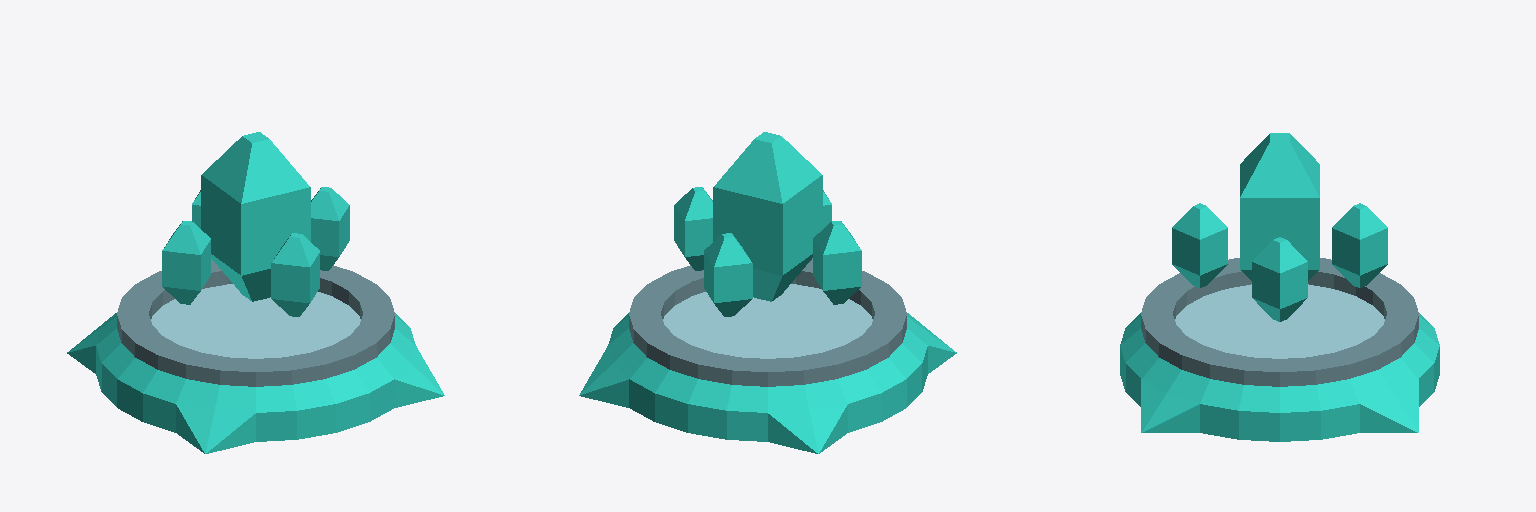
File: Freeze_Turret.obj
The picture shows the model from 3 angles: view 1: azimuth 30°, elevation 25°; view 2: azimuth 150°, elevation 25°; view 3: azimuth 270°, elevation 25°; orthographic projection.
Visible parts, largest first — view 1: Freeze_Turret; view 2: Freeze_Turret; view 3: Freeze_Turret.
Boxes of the visible parts, box(x1,y1,x2,y2) form: Freeze_Turret: box(67, 132, 444, 453); Freeze_Turret: box(579, 132, 956, 453); Freeze_Turret: box(1120, 133, 1439, 441).
Size of the model in its own units: 1 by 0.8175 by 1.